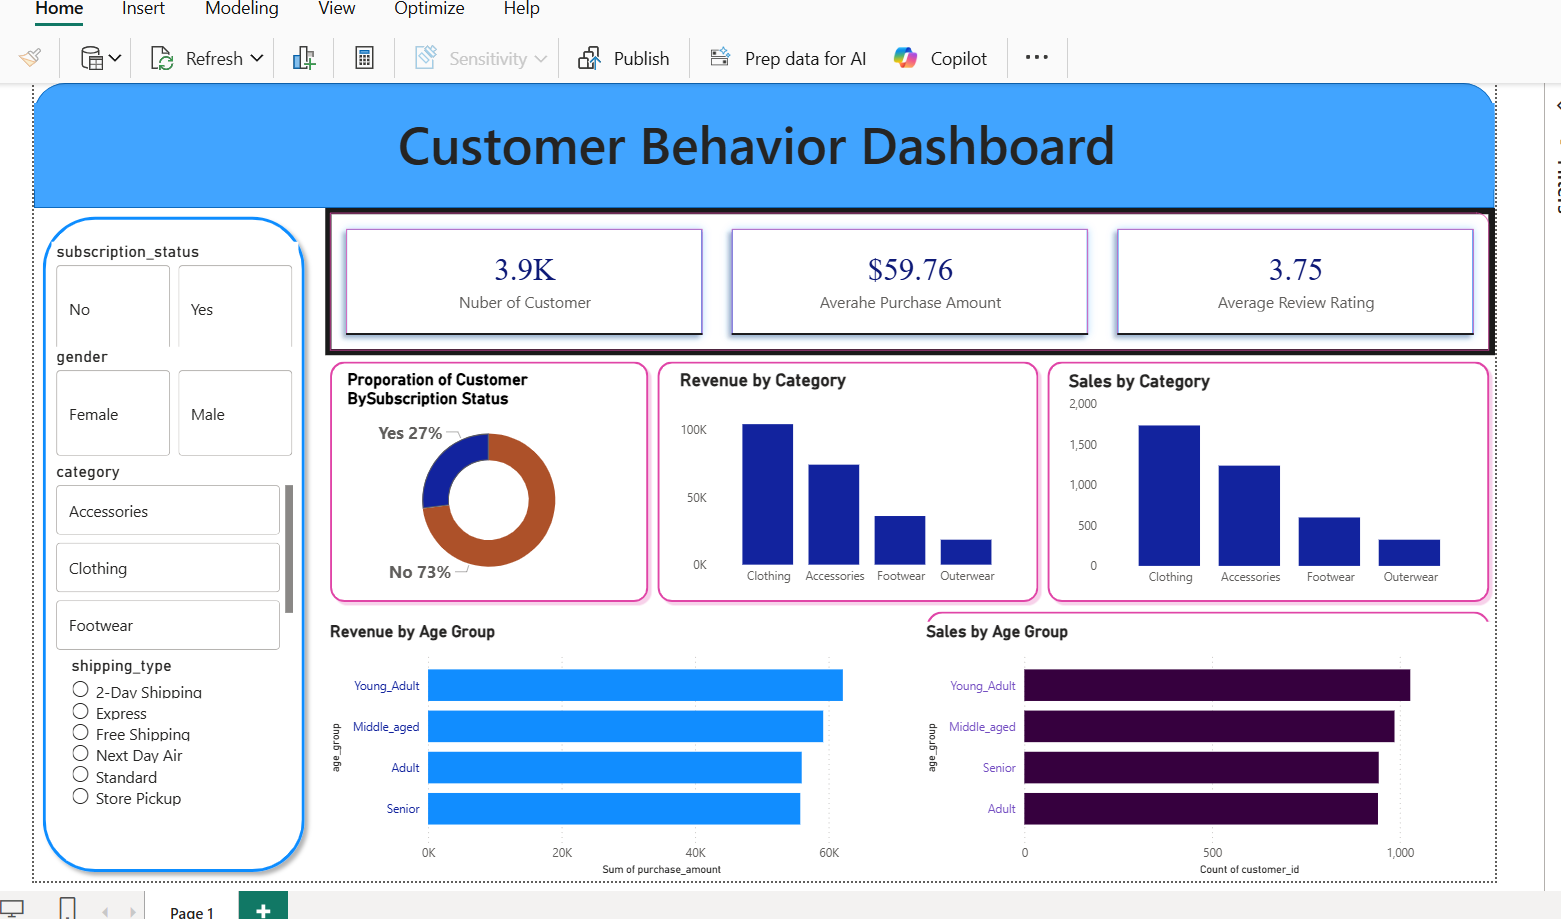

Layout of this report page (visuals, bound fields, positions):
{"tool":"powerbi","page":{"name":"Page 1","canvas":[1500,820],"ordinal":0},"visuals":[{"type":"cardVisual","fields":{"Data":["public customer.Nuber of Customer","public customer.Averahe Purchase Amount","public customer.Average Review Rating"]},"box":[298.6,128.5,1201.2,151],"z":0},{"type":"shape","box":[0,0,1499.8,128.5],"z":1000},{"type":"textbox","box":[0,20.8,1499.8,88.5],"z":2000},{"type":"shape","box":[298.6,281.2,336.8,256.9],"z":3000},{"type":"donutChart","title":"Proporation of  Customer BySubscription Status","fields":{"Category":["public customer.subscription_status"],"Y":["CountNonNull(public customer.customer_id)"]},"box":[317.7,293.4,300.3,230.9],"z":4000},{"type":"shape","box":[635.3,281.2,401,256.9],"z":5000},{"type":"shape","box":[1036.3,281.2,463.5,256.9],"z":6000},{"type":"clusteredColumnChart","title":"Revenue by Category","fields":{"Y":["Sum(public customer.purchase_amount)"],"Category":["public customer.category"]},"box":[657.9,293.4,359.3,230.9],"z":7000},{"type":"clusteredColumnChart","title":"Sales by Category","fields":{"Category":["public customer.category"],"Y":["CountNonNull(public customer.customer_id)"]},"box":[1057.1,295.1,427,230.9],"z":8000},{"type":"shape","box":[0,128.5,287,690.9],"z":9000},{"type":"advancedSlicerVisual","fields":{"Values":["public customer.subscription_status"]},"box":[17.4,163.2,253.4,118],"z":10000},{"type":"advancedSlicerVisual","fields":{"Values":["public customer.gender"]},"box":[17.4,270.8,253.4,118],"z":11000},{"type":"advancedSlicerVisual","fields":{"Values":["public customer.category"]},"box":[17.4,388.8,253.4,199.6],"z":12000},{"type":"listSlicer","fields":{"Values":["public customer.shipping_type"]},"box":[33,588.5,187.5,210],"z":13000},{"type":"clusteredBarChart","title":"Revenue by Age Group","fields":{"Y":["Sum(public customer.purchase_amount)"],"Category":["public customer.age_group"]},"box":[298.6,553.7,600.6,265.6],"z":14000},{"type":"shape","box":[911.3,538.1,588.5,281.2],"z":15001},{"type":"clusteredBarChart","title":"Sales by Age Group","fields":{"Y":["CountNonNull(public customer.customer_id)"],"Category":["public customer.age_group"]},"box":[911.3,553.7,588.5,265.6],"z":15002}]}

Visuals, with their boxes on the page's 1500x820 design canvas (x1, y1, x2, y2). These are canvas units, not pixel positions in the 1561x919 screenshot, which may show the page scaled, cropped or inside an application window:
cardVisual - public customer.Nuber of Customer x public customer.Averahe Purchase Amount: 299:128:1500:280
shape: 0:0:1500:128
textbox: 0:21:1500:109
shape: 299:281:635:538
"Proporation of  Customer BySubscription Status" donutChart: 318:293:618:524
shape: 635:281:1036:538
shape: 1036:281:1500:538
"Revenue by Category" clusteredColumnChart: 658:293:1017:524
"Sales by Category" clusteredColumnChart: 1057:295:1484:526
shape: 0:128:287:819
advancedSlicerVisual - public customer.subscription_status: 17:163:271:281
advancedSlicerVisual - public customer.gender: 17:271:271:389
advancedSlicerVisual - public customer.category: 17:389:271:588
listSlicer - public customer.shipping_type: 33:588:220:798
"Revenue by Age Group" clusteredBarChart: 299:554:899:819
shape: 911:538:1500:819
"Sales by Age Group" clusteredBarChart: 911:554:1500:819
